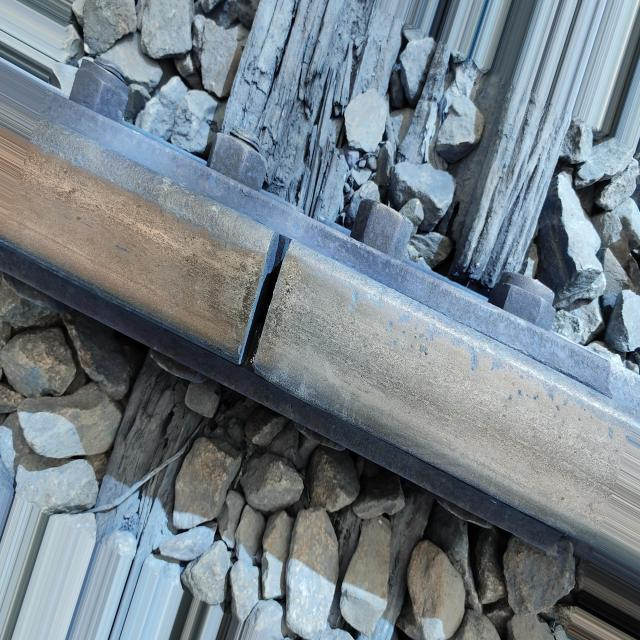crack: (208, 216, 318, 377)
